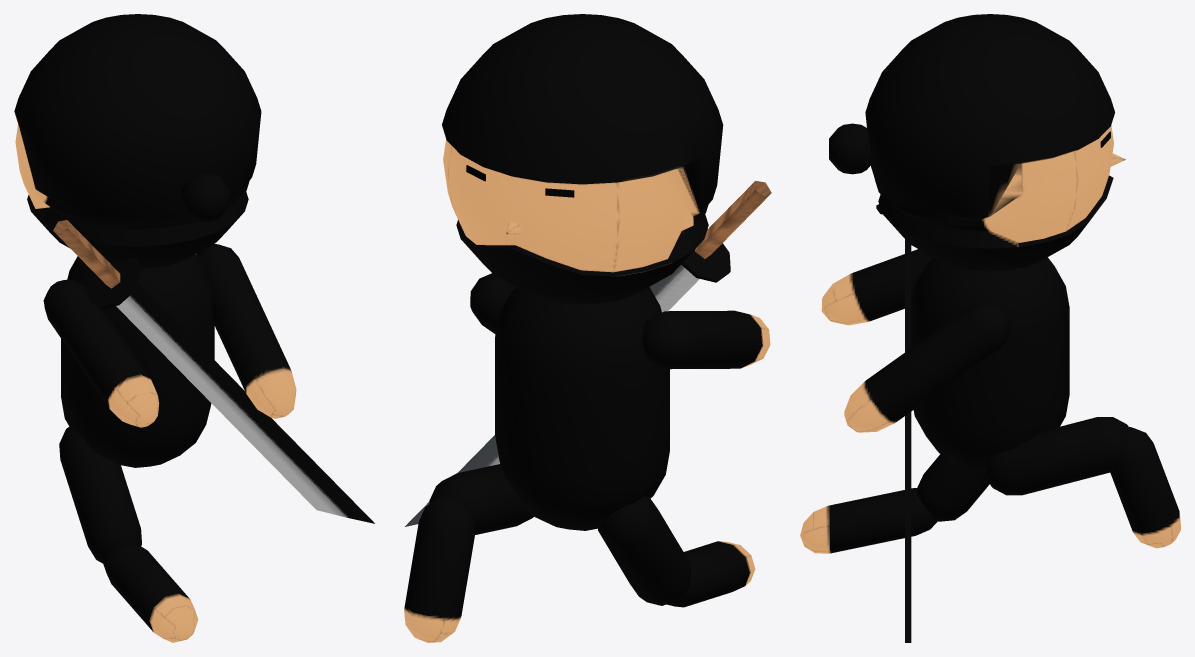
Rendered from NINJA Jumping.fbx.
The picture shows the model from 3 angles, left to right: view 1: azimuth 30°, elevation 25°; view 2: azimuth 150°, elevation 25°; view 3: azimuth 270°, elevation 25°; orthographic projection. The views are drawn at different scales.
Visible parts, largest first — view 1: Pose_In_Air_Jump_1; view 2: Pose_In_Air_Jump_1; view 3: Pose_In_Air_Jump_1.
Part boxes in pixels (<box>): Pose_In_Air_Jump_1: <box>14,14,374,642</box>; Pose_In_Air_Jump_1: <box>404,14,771,642</box>; Pose_In_Air_Jump_1: <box>800,14,1180,642</box>.
Size of the model in its own units: 287 by 467 by 294.
